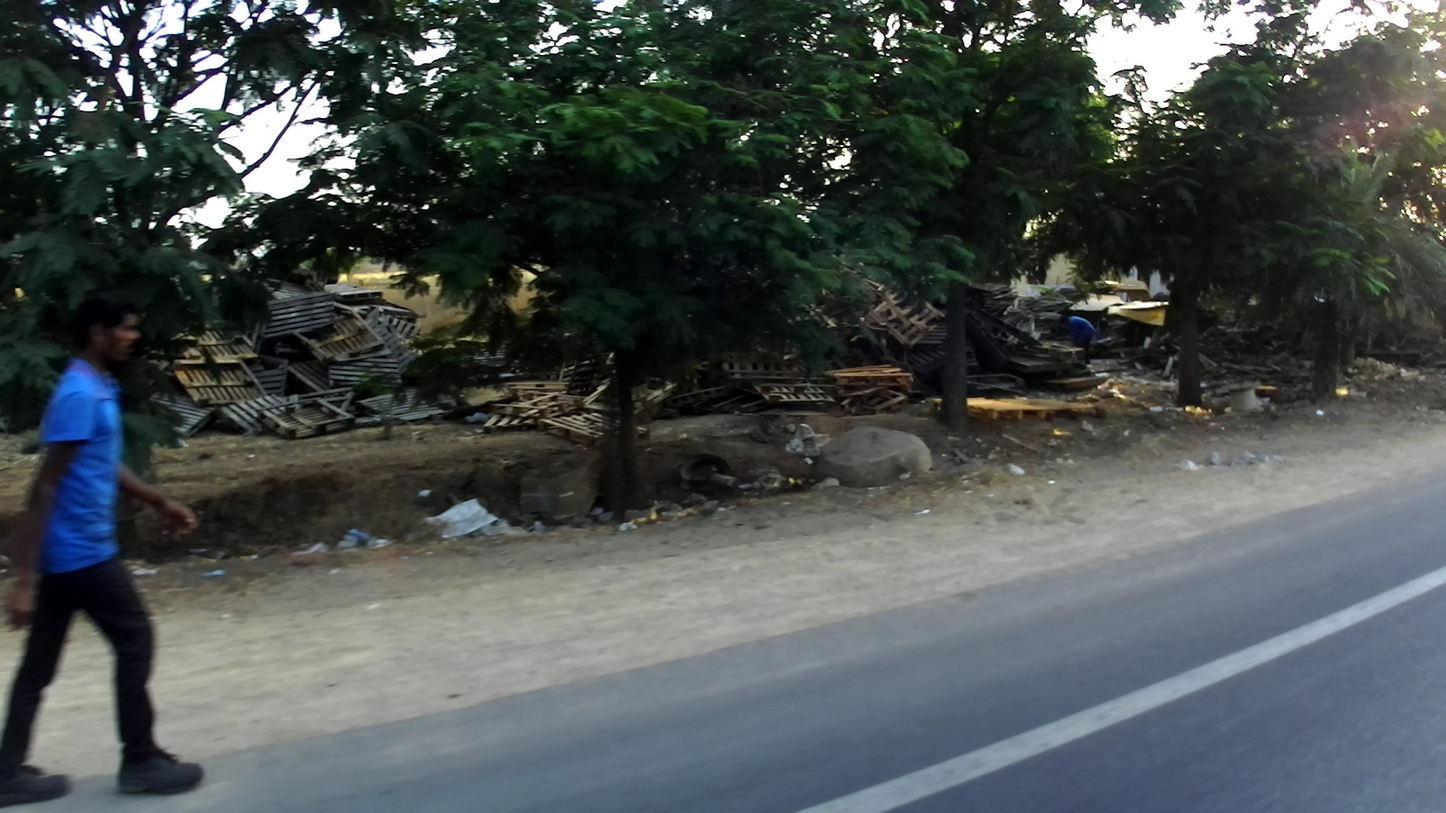person: (2, 284, 205, 812), (1058, 304, 1097, 367)
